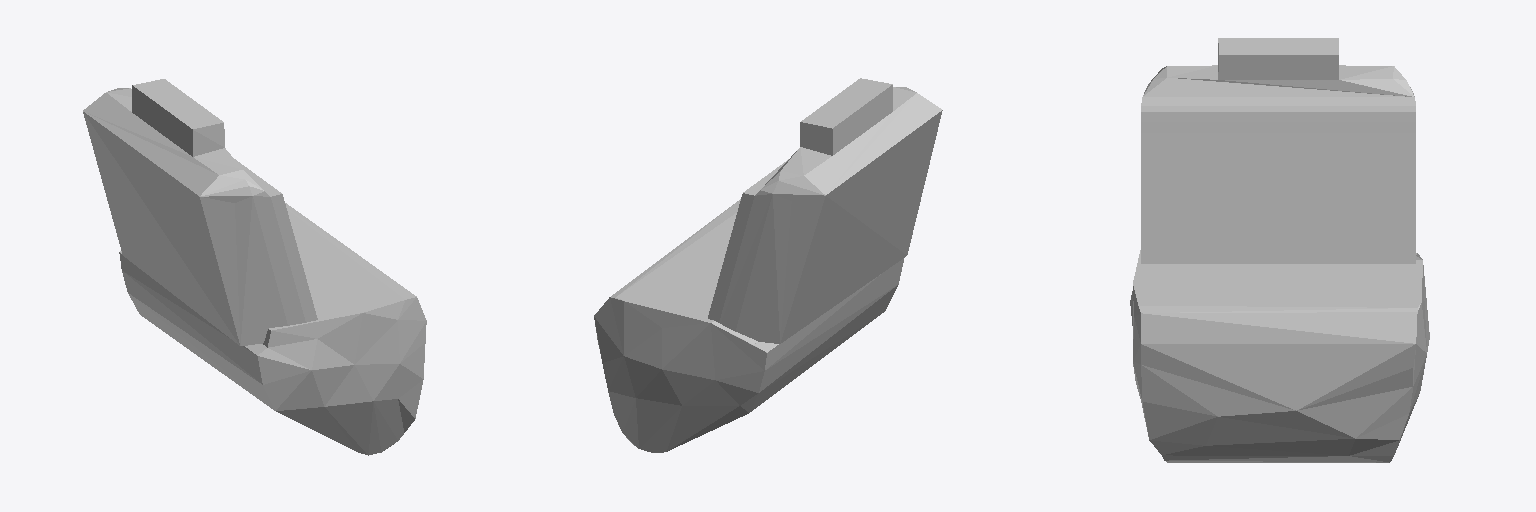
Rendered from combinedHeadCollision.obj.
3 views of the same model, side by side, from view 1: azimuth 30°, elevation 25°; view 2: azimuth 150°, elevation 25°; view 3: azimuth 270°, elevation 25° (orthographic).
Parts seen in each view (by area): view 1: head_collision; view 2: head_collision; view 3: head_collision, tablet_collision.
Part boxes in pixels (bbox=[...]): head_collision: bbox=[83, 79, 426, 455]; head_collision: bbox=[594, 78, 942, 452]; head_collision: bbox=[1130, 38, 1429, 462]; tablet_collision: bbox=[1141, 122, 1415, 132].
Size of the model in its own units: 0.194 by 0.276 by 0.218.